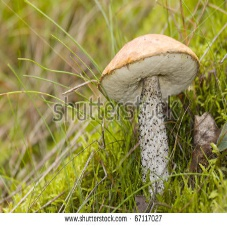mushroom: (96, 34, 203, 204)
